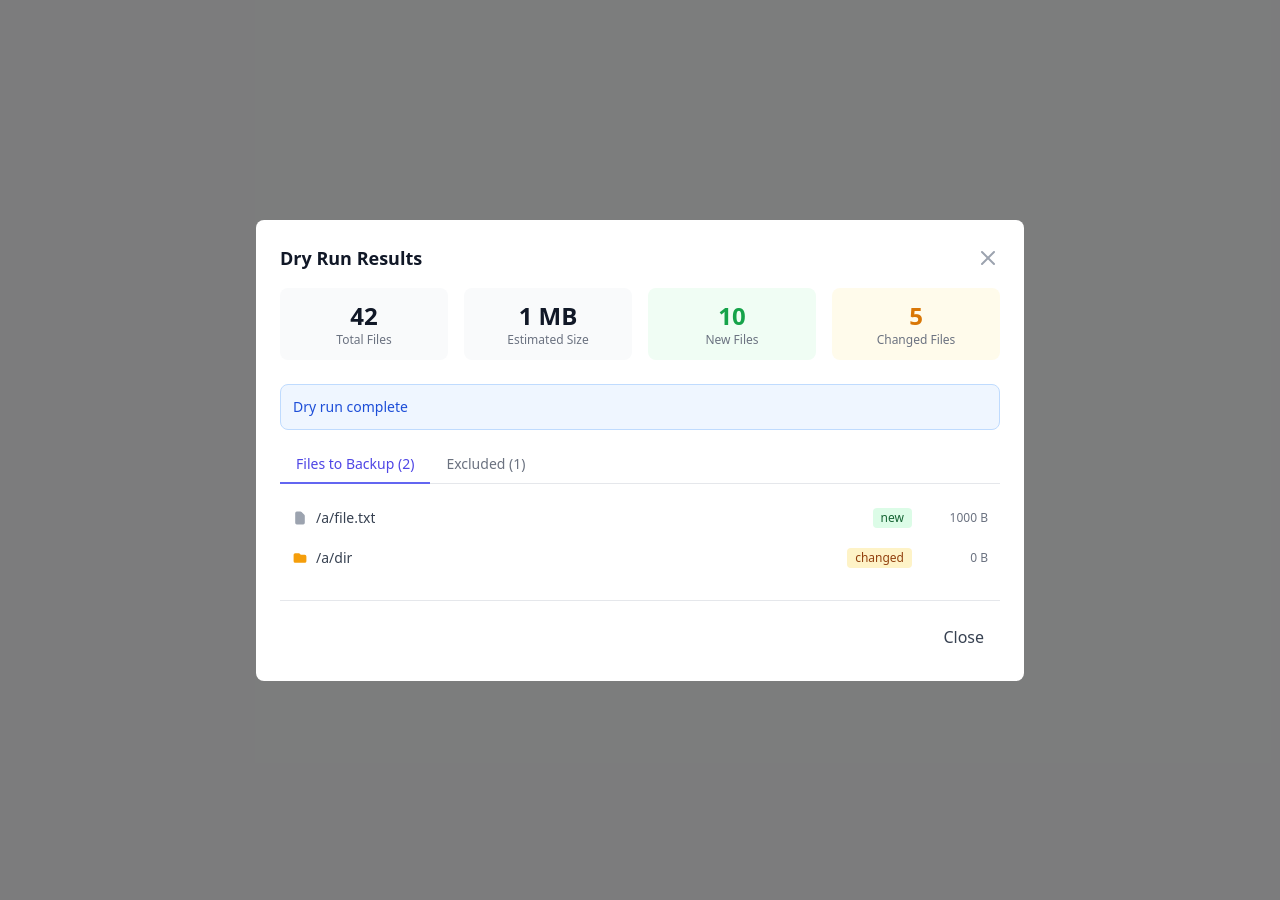
Scenario: DryRunResultsModal › switches to excluded tab
Click the button "Excluded (1)".
click(486, 464)  # box 430,446 -> 542,484
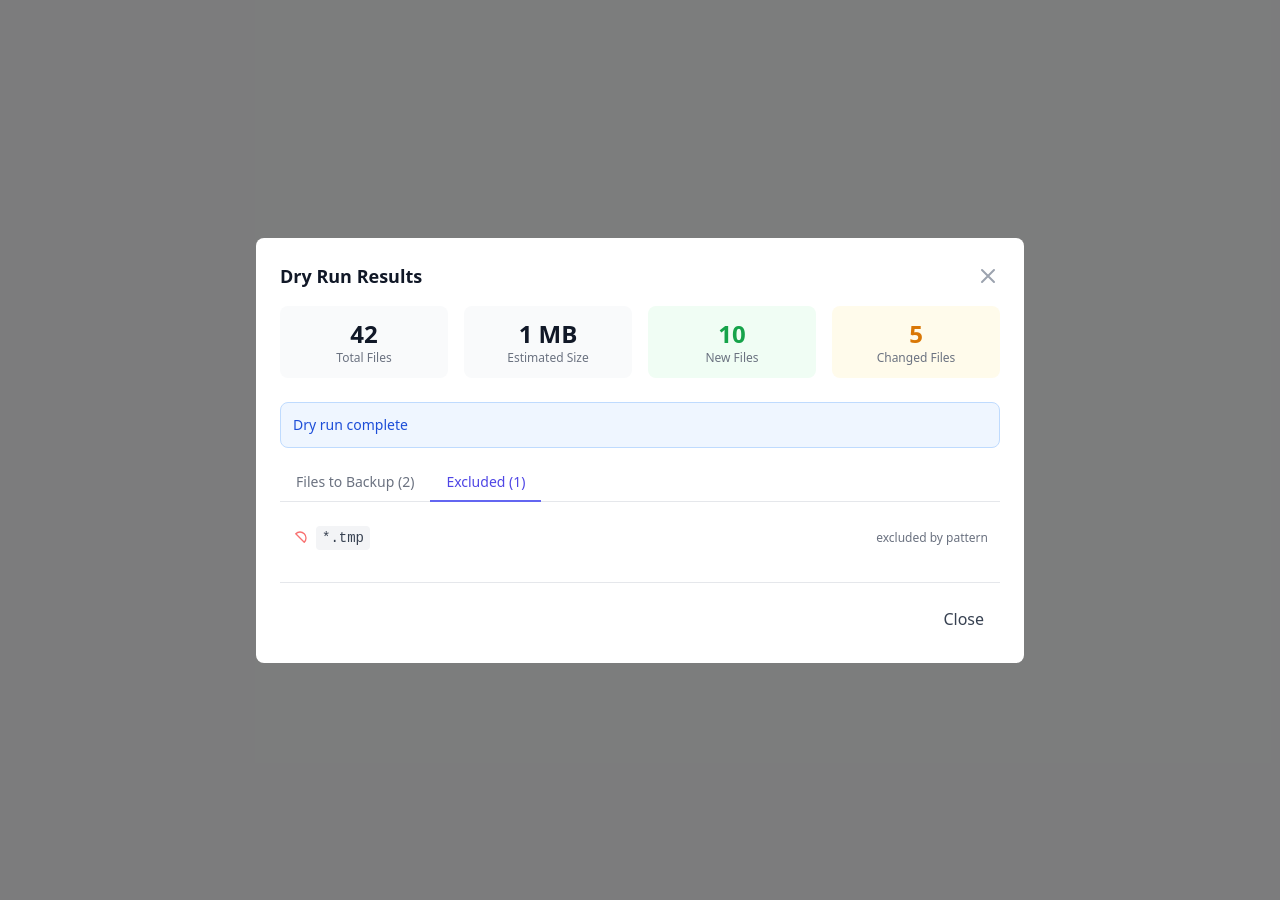
Result: the text "*.tmp" is shown at 316,526 -> 370,550
Result: the text "excluded by pattern" is shown at 876,530 -> 988,546
